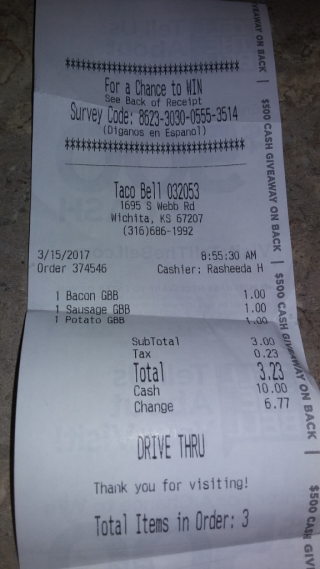Taco Bell: (109, 176, 164, 200)
